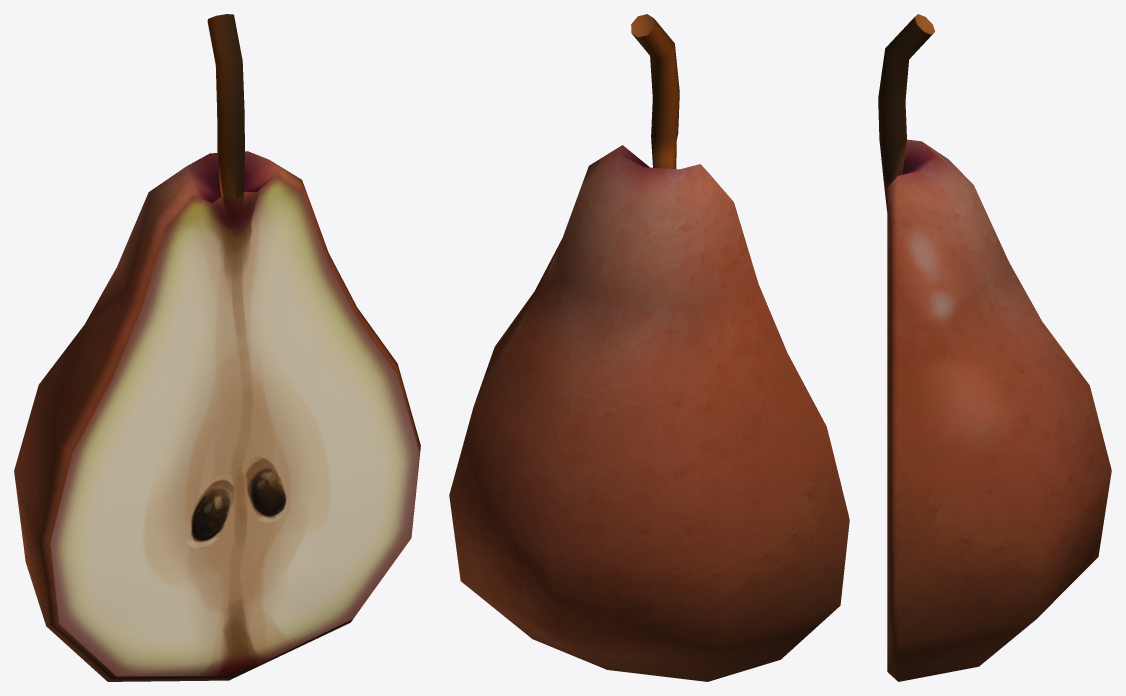
The model's file is Pear_01_Half.fbx.
3 renders of one model, left to right at view 1: azimuth 30°, elevation 25°; view 2: azimuth 150°, elevation 25°; view 3: azimuth 270°, elevation 25°, orthographic. The views are drawn at different scales.
Visible parts, largest first — view 1: Pear_01_Half; view 2: Pear_01_Half; view 3: Pear_01_Half.
Boxes of the visible parts, x1,y1,x2,y2 form: Pear_01_Half: (14,14,420,681); Pear_01_Half: (449,14,849,681); Pear_01_Half: (878,14,1111,681).
Size of the model in its own units: 26.45 by 43.37 by 14.4.
1 material, 1 textured.
